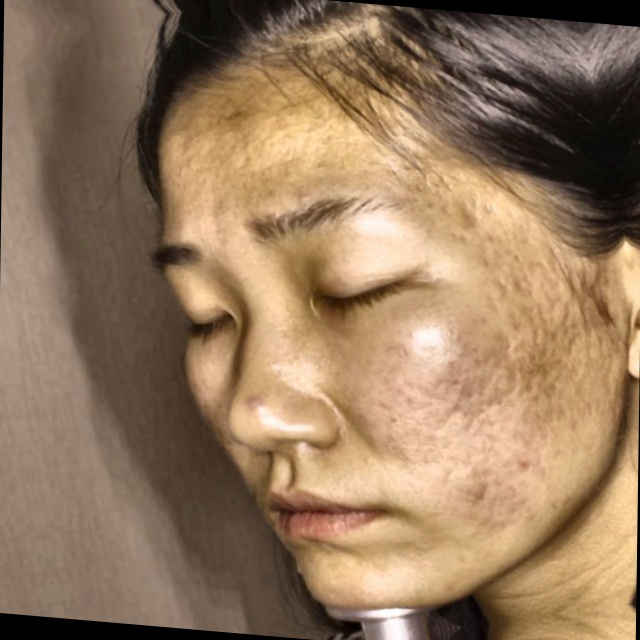comedone: (232, 380, 279, 428), (507, 444, 543, 482)
